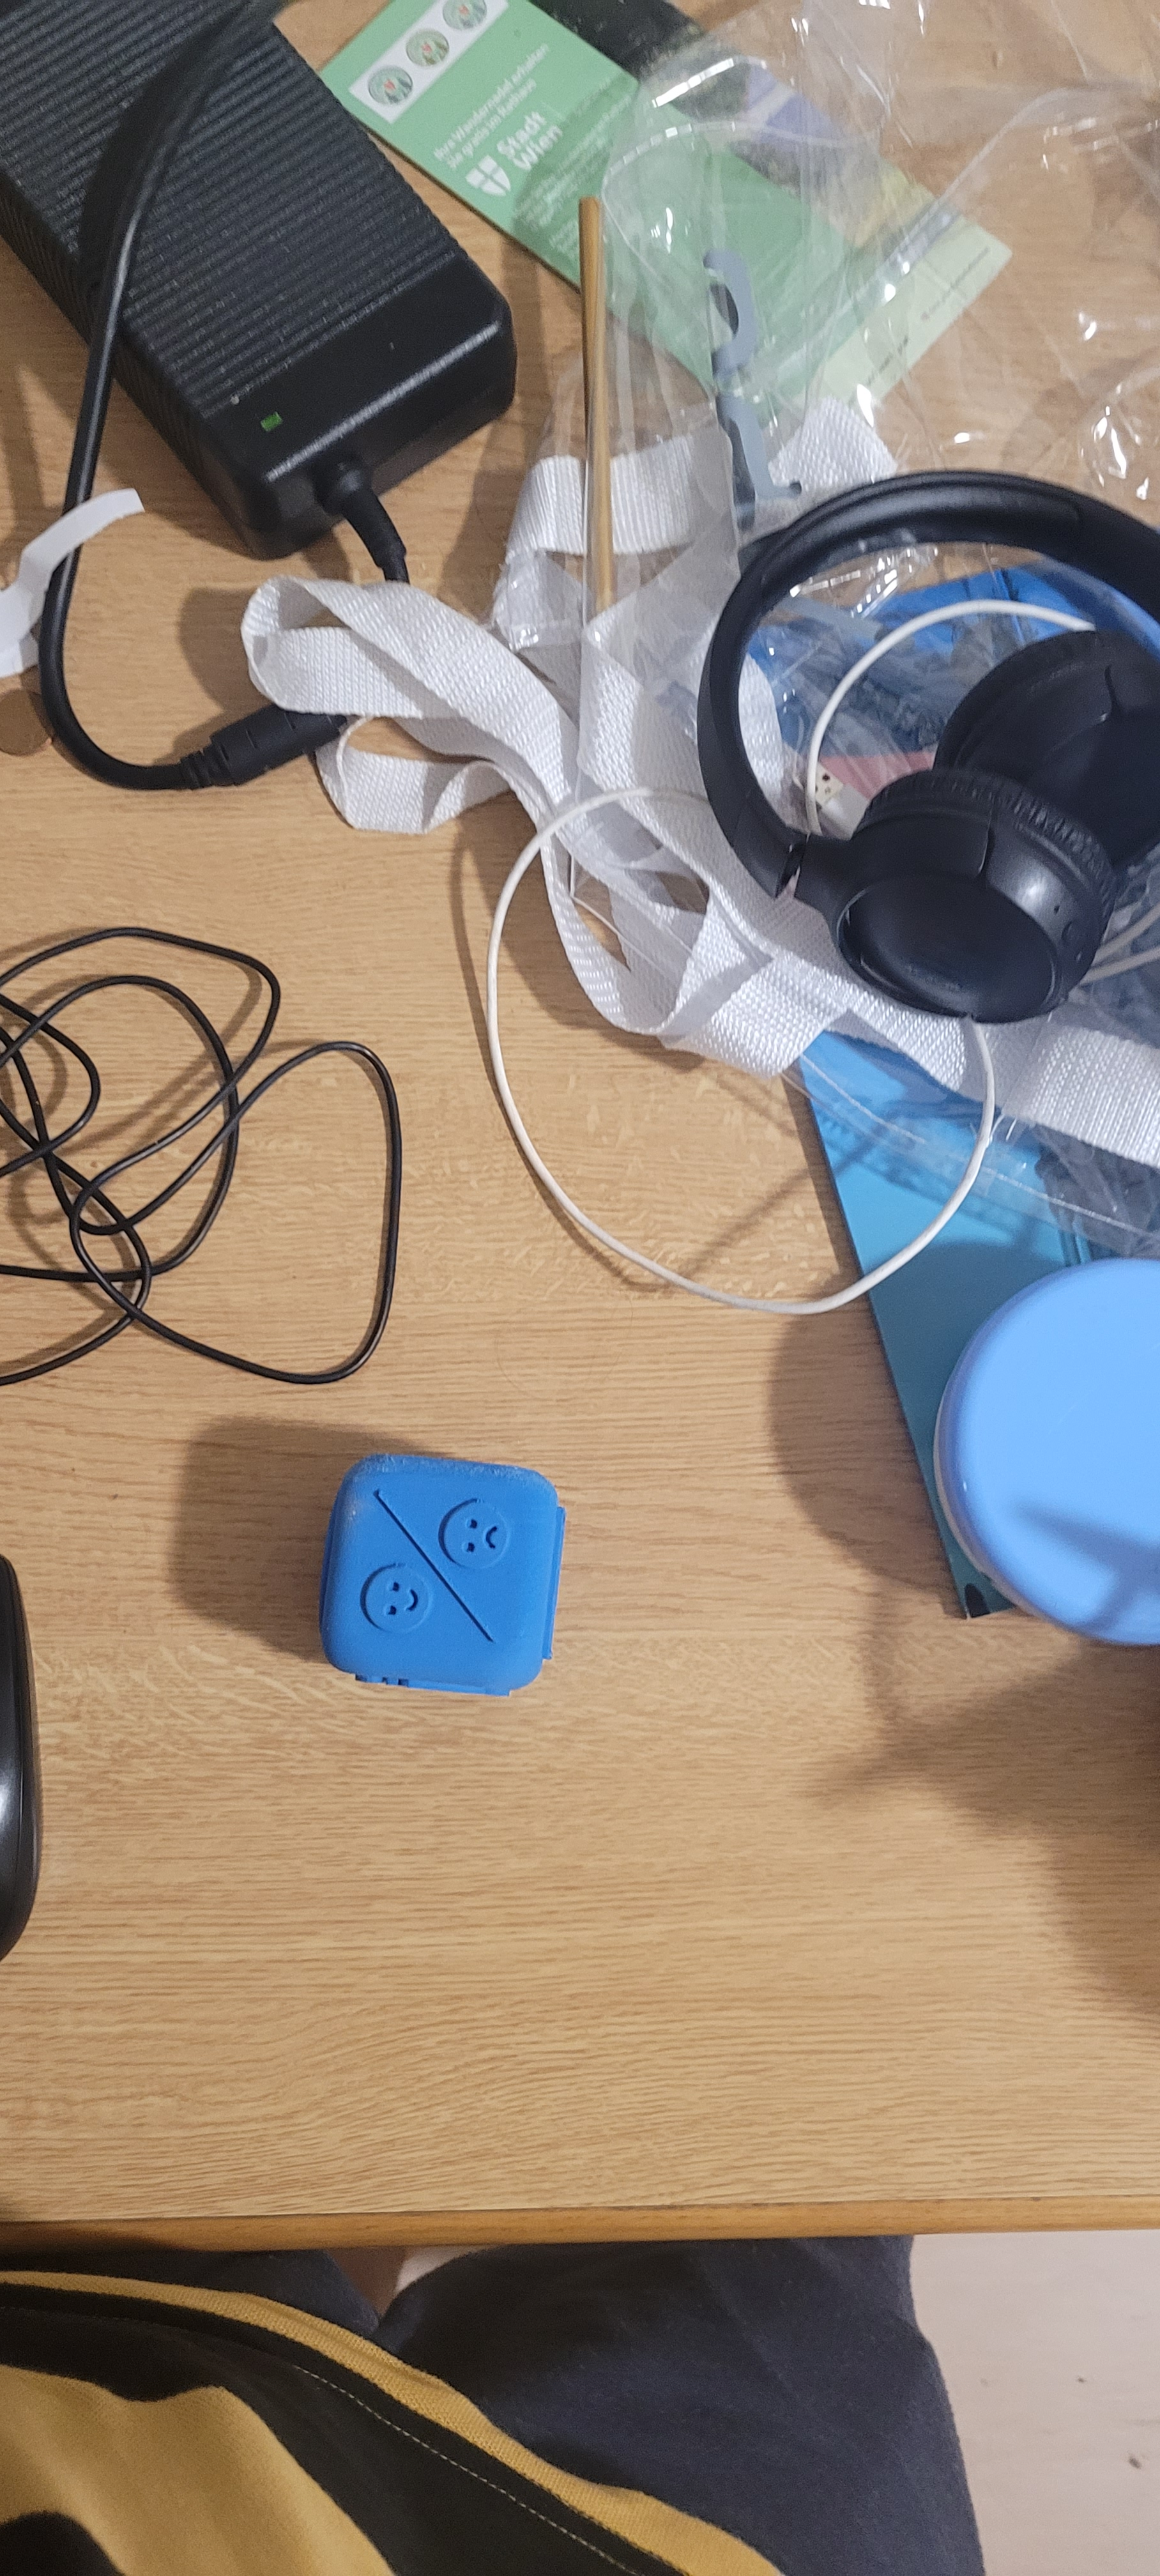Like/Dislike: (360, 1441, 545, 1659)
